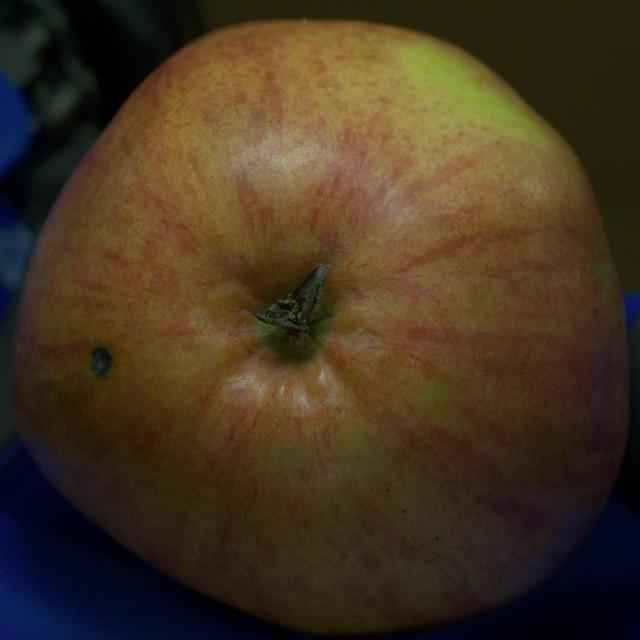apple: (12, 21, 628, 634)
pest: (91, 348, 112, 378)
